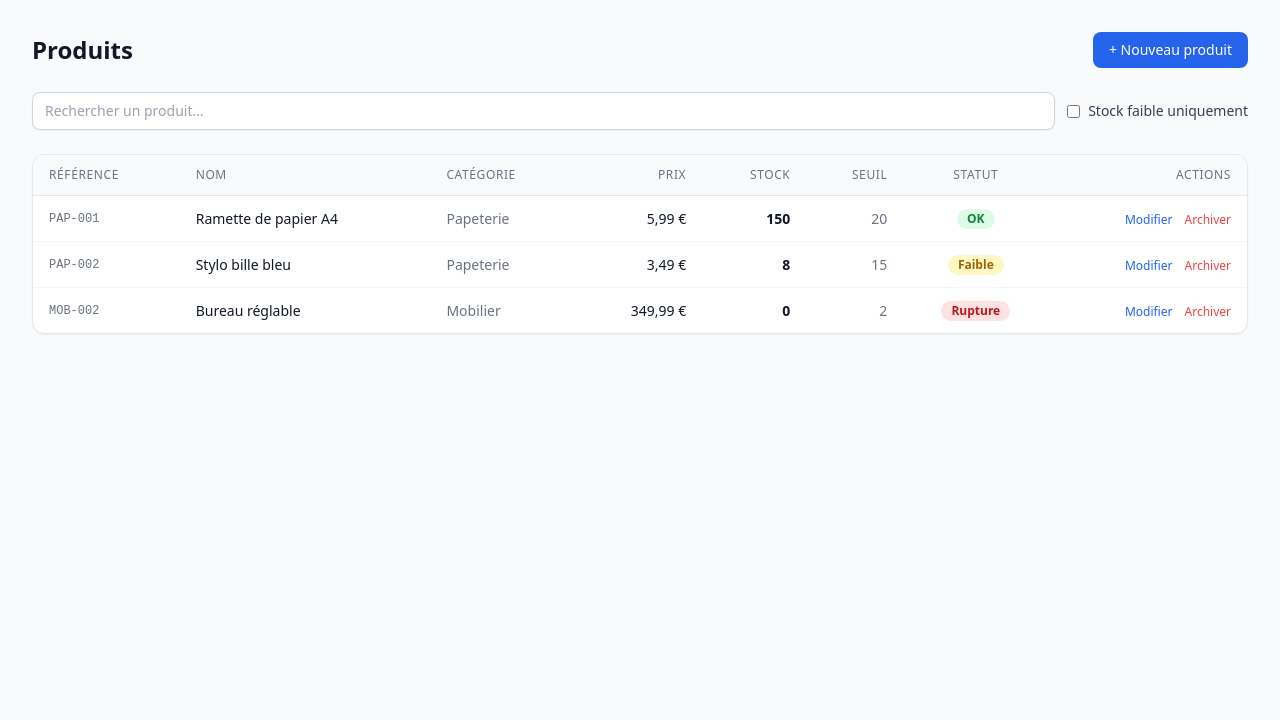
Scenario: Products — liste et archivage › n'archive rien si l'utilisateur annule
Click the button "Archiver " in the row of "PAP-001" at [1208, 220], box left=1184, top=212, right=1231, bottom=228
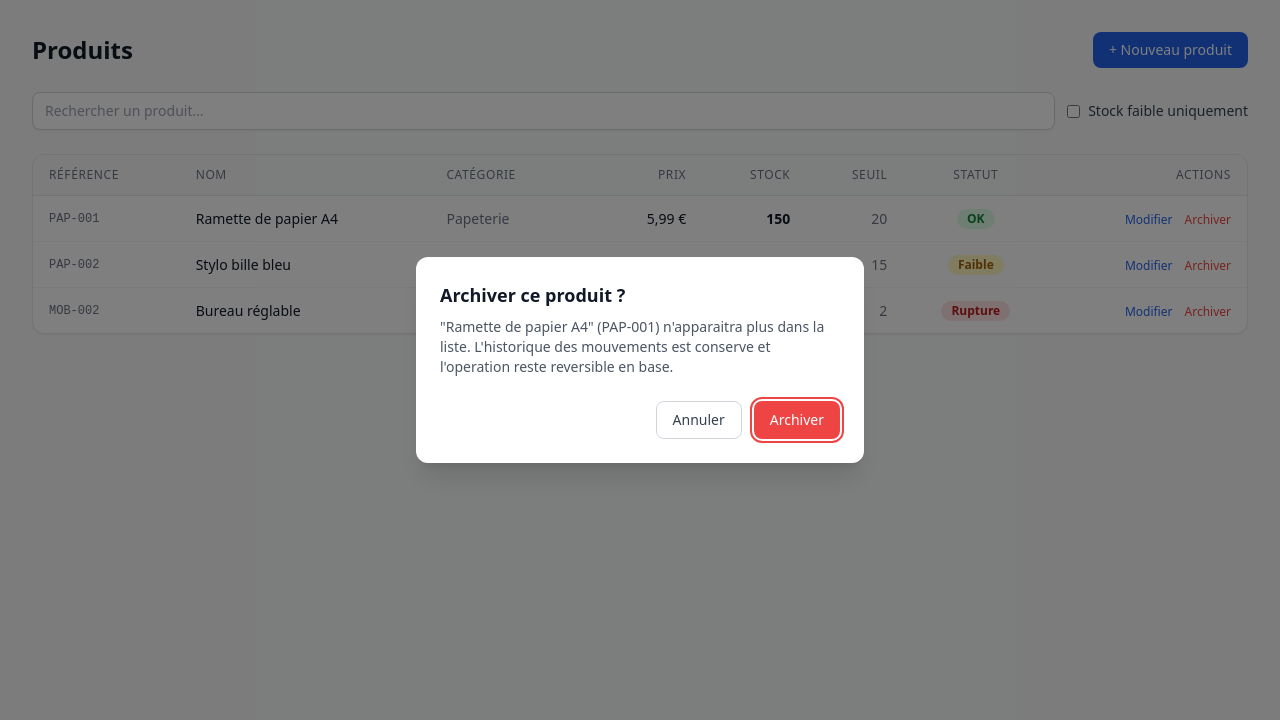
Click the button "Annuler" at [699, 420], box left=656, top=401, right=742, bottom=439
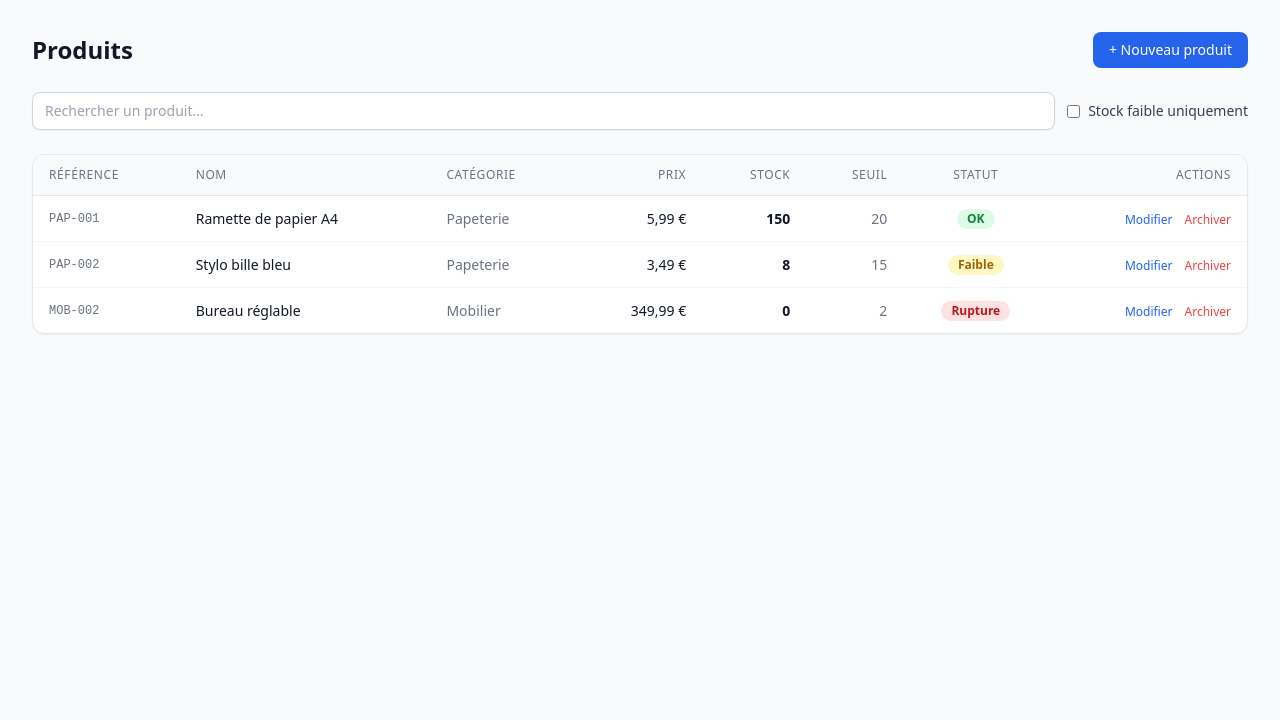
Expected: the dialog is gone
